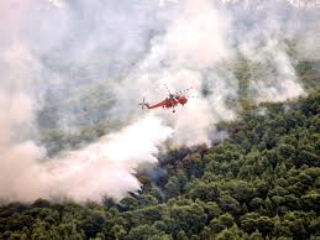smoke: (185, 19, 311, 121), (11, 125, 178, 197)
